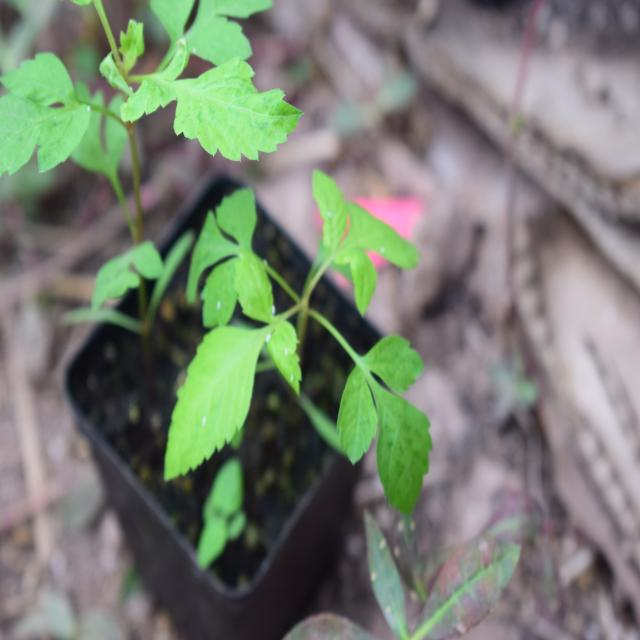Bidens pilosa: (161, 182, 444, 520), (15, 0, 298, 182)
